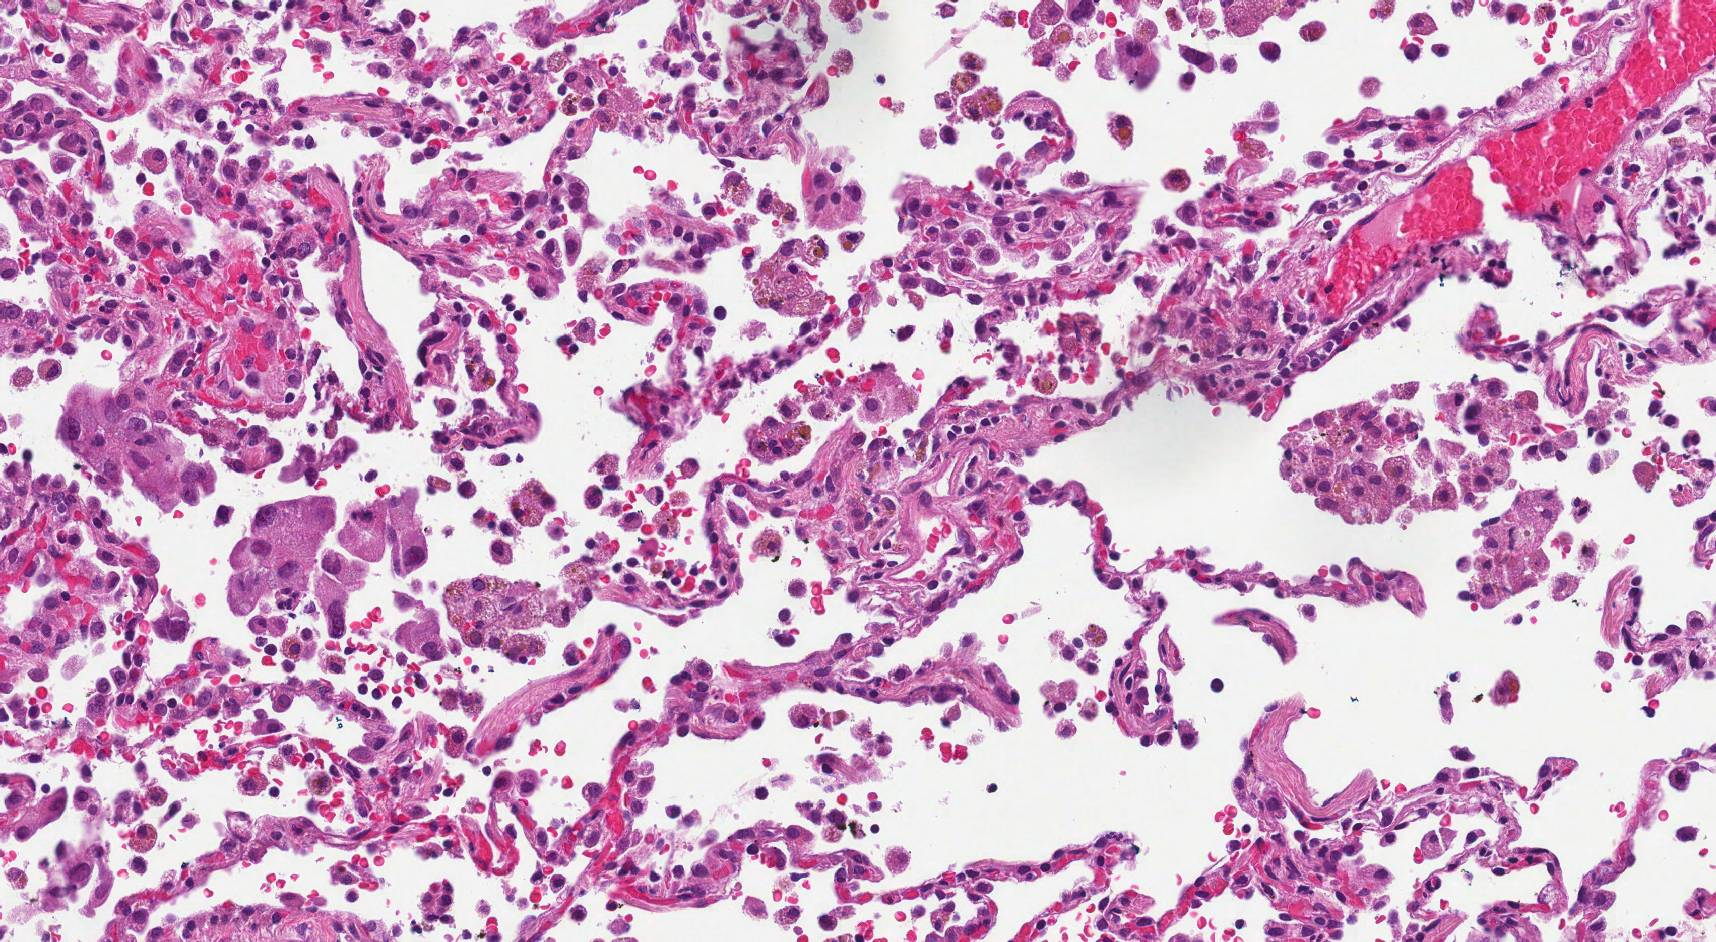stas: (224, 488, 443, 658), (55, 383, 217, 509)
